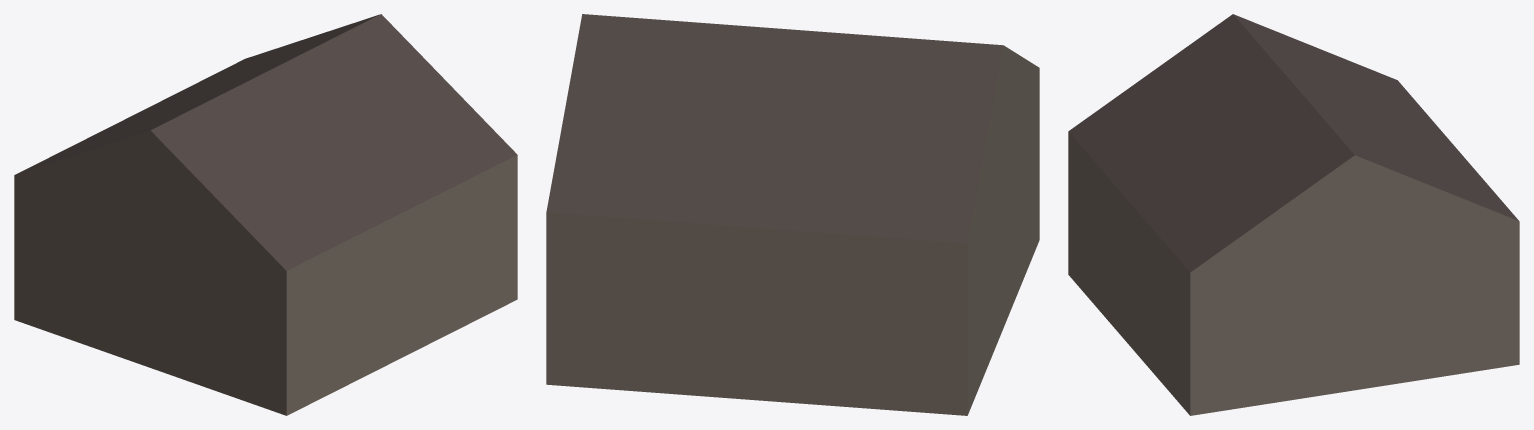
3 renders of one model, left to right at view 1: azimuth 30°, elevation 25°; view 2: azimuth 150°, elevation 25°; view 3: azimuth 270°, elevation 25°, orthographic. The views are drawn at different scales.
Visible parts, largest first — view 1: HP-w757502019; view 2: HP-w757502019; view 3: HP-w757502019.
Part boxes in pixels (<box>): HP-w757502019: <box>14,14,517,415</box>; HP-w757502019: <box>546,14,1039,415</box>; HP-w757502019: <box>1068,14,1519,415</box>.
Bounding box in the file's own units: 17.28 × 9.84 × 17.12.
